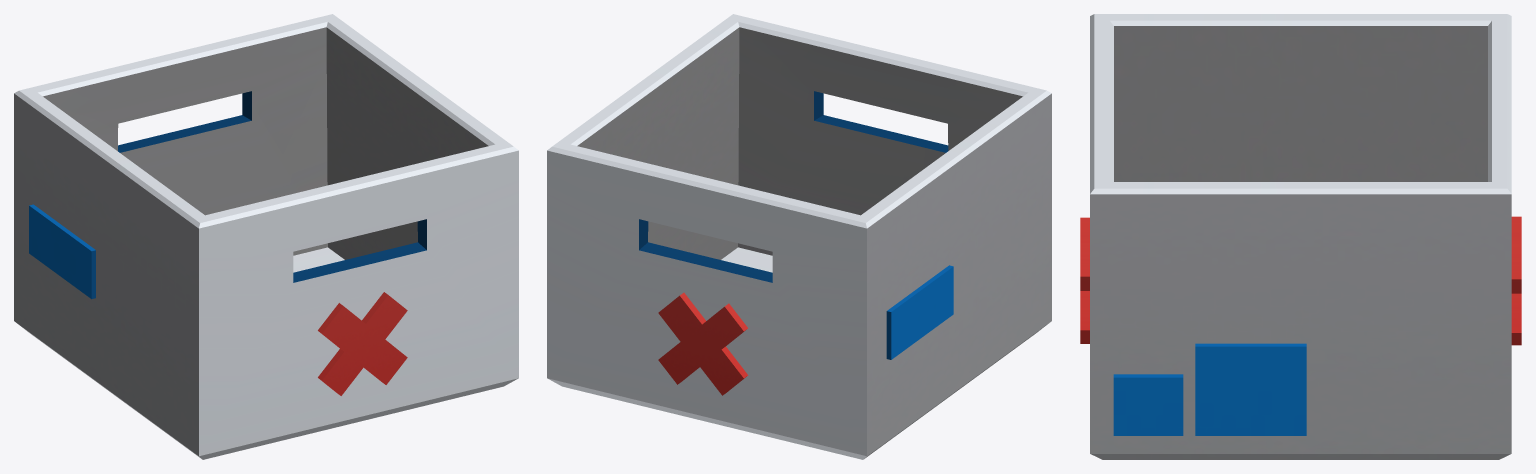
3 renders of one model, left to right at view 1: azimuth 30°, elevation 25°; view 2: azimuth 150°, elevation 25°; view 3: azimuth 270°, elevation 25°, orthographic. The views are drawn at different scales.
Parts seen in each view (by area): view 1: SM_Box01; view 2: SM_Box01; view 3: SM_Box01.
Part boxes in pixels (left/top/right/bottom): SM_Box01: left=14, top=14, right=518, bottom=459; SM_Box01: left=547, top=14, right=1051, bottom=459; SM_Box01: left=1080, top=14, right=1521, bottom=459.
Size of the model in its own units: 29.7 by 20.72 by 30.15.
